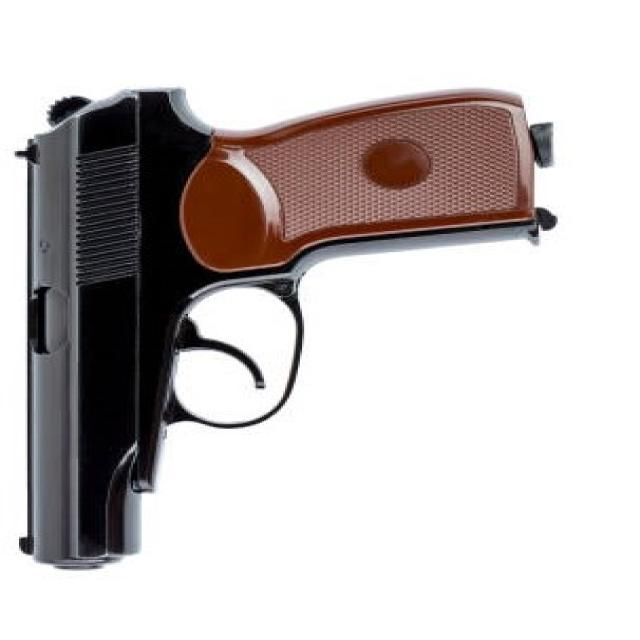pistol: (7, 77, 576, 577)
